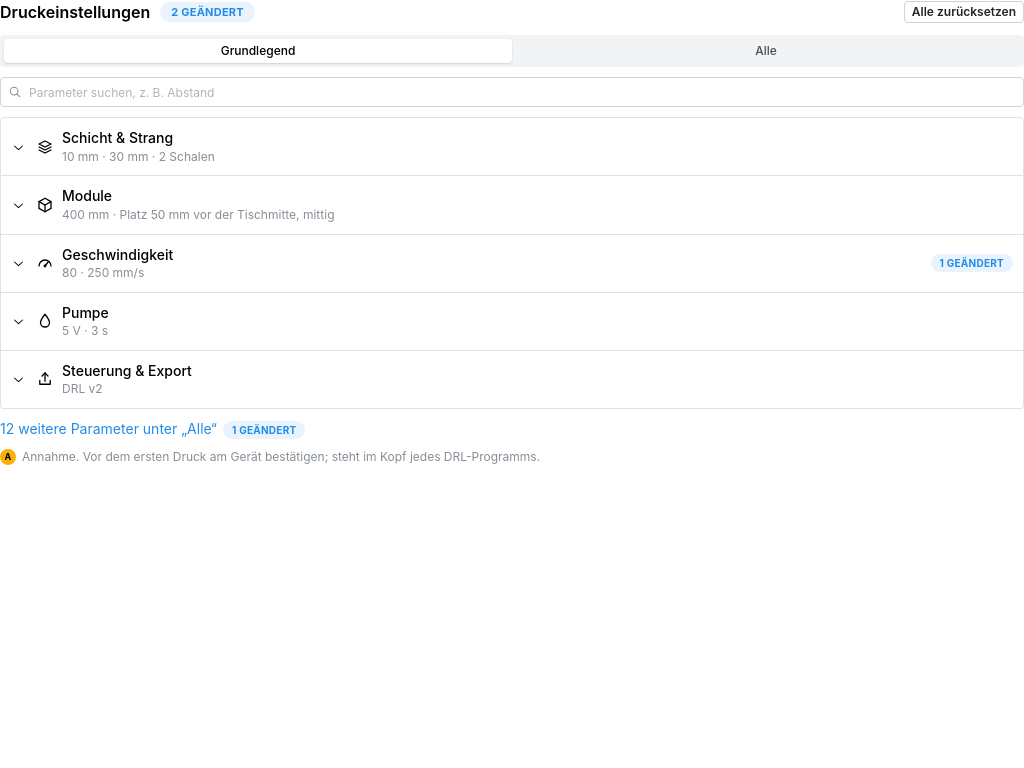
ParamsPanel › markiert Änderungen, zählt versteckte und schaltet über den Hinweis auf „Alle“
Expected: the element with test id "params-changed-count" reads "2 geändert", x1=160 y1=2 x2=255 y2=22
Expected: the element with test id "param-group-changed-speed" reads "1 geändert", x1=931 y1=254 x2=1013 y2=272
Click the button with test id "param-hidden-note" at [116, 428], box x1=0 y1=419 x2=1023 y2=439
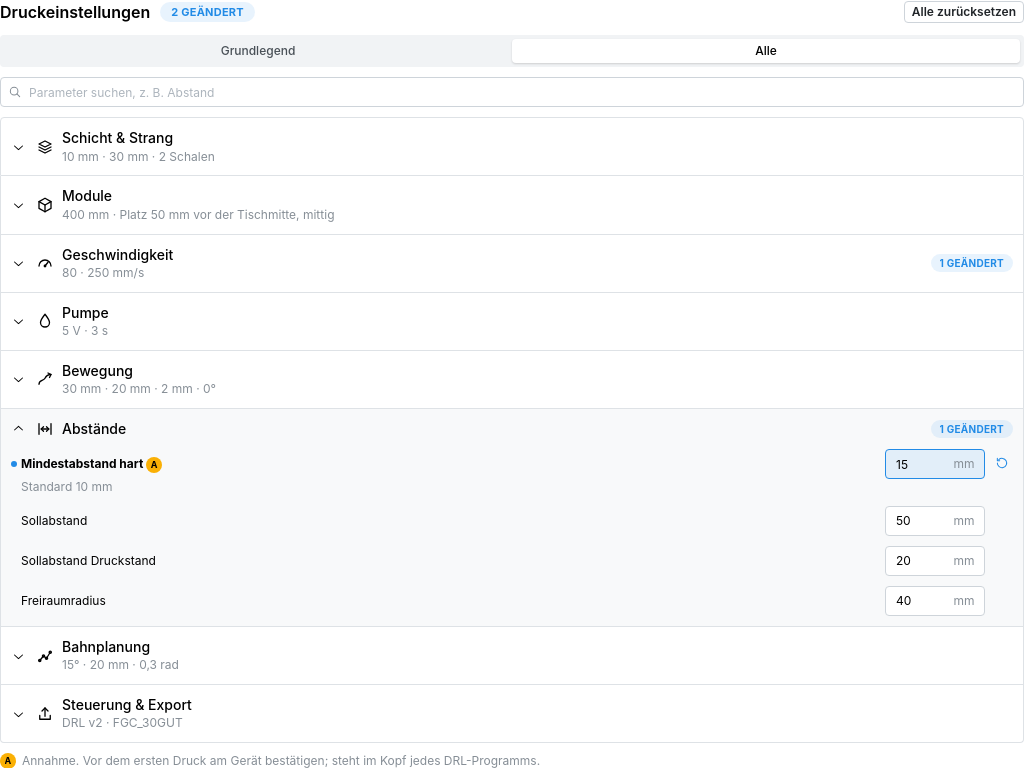
Result: the button with test id "param-hidden-note" is gone
Click the button named "Mindestabstand hart auf Standard zurücksetzen" at [1002, 463], box x1=991 y1=452 x2=1013 y2=474
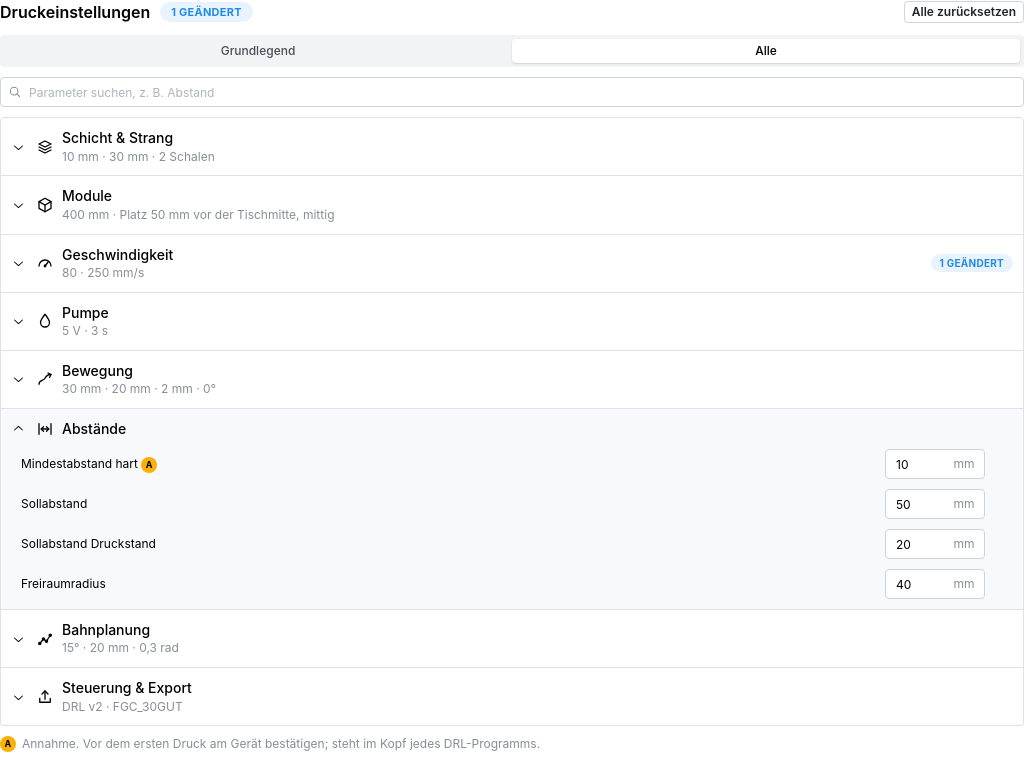
Click the button with test id "params-reset-all" at [964, 12], box x1=904 y1=1 x2=1023 y2=23
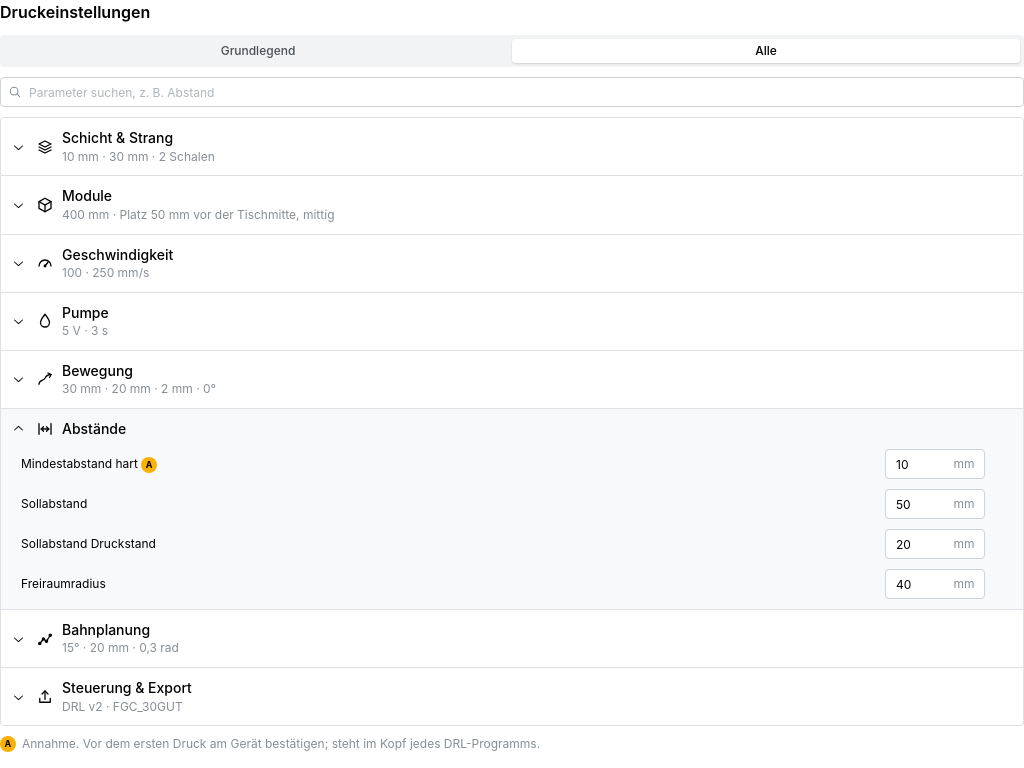
Result: the element with test id "params-changed-count" is gone
